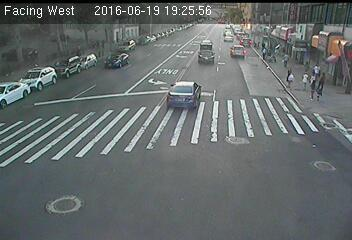neg: (213, 12, 234, 39), (189, 30, 209, 57), (203, 108, 222, 134), (267, 149, 286, 174), (224, 70, 243, 95), (123, 84, 140, 107), (55, 84, 71, 105), (209, 161, 223, 181), (116, 154, 130, 173), (171, 84, 184, 101), (143, 29, 155, 45)
pos: (306, 77, 323, 100), (283, 68, 298, 88), (279, 49, 293, 68), (299, 70, 313, 88), (311, 58, 323, 73), (259, 46, 270, 61), (301, 57, 311, 71), (260, 39, 269, 51)
